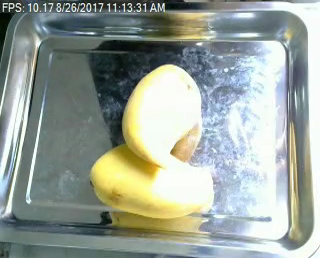Mango: (84, 143, 224, 223), (120, 64, 207, 170)
